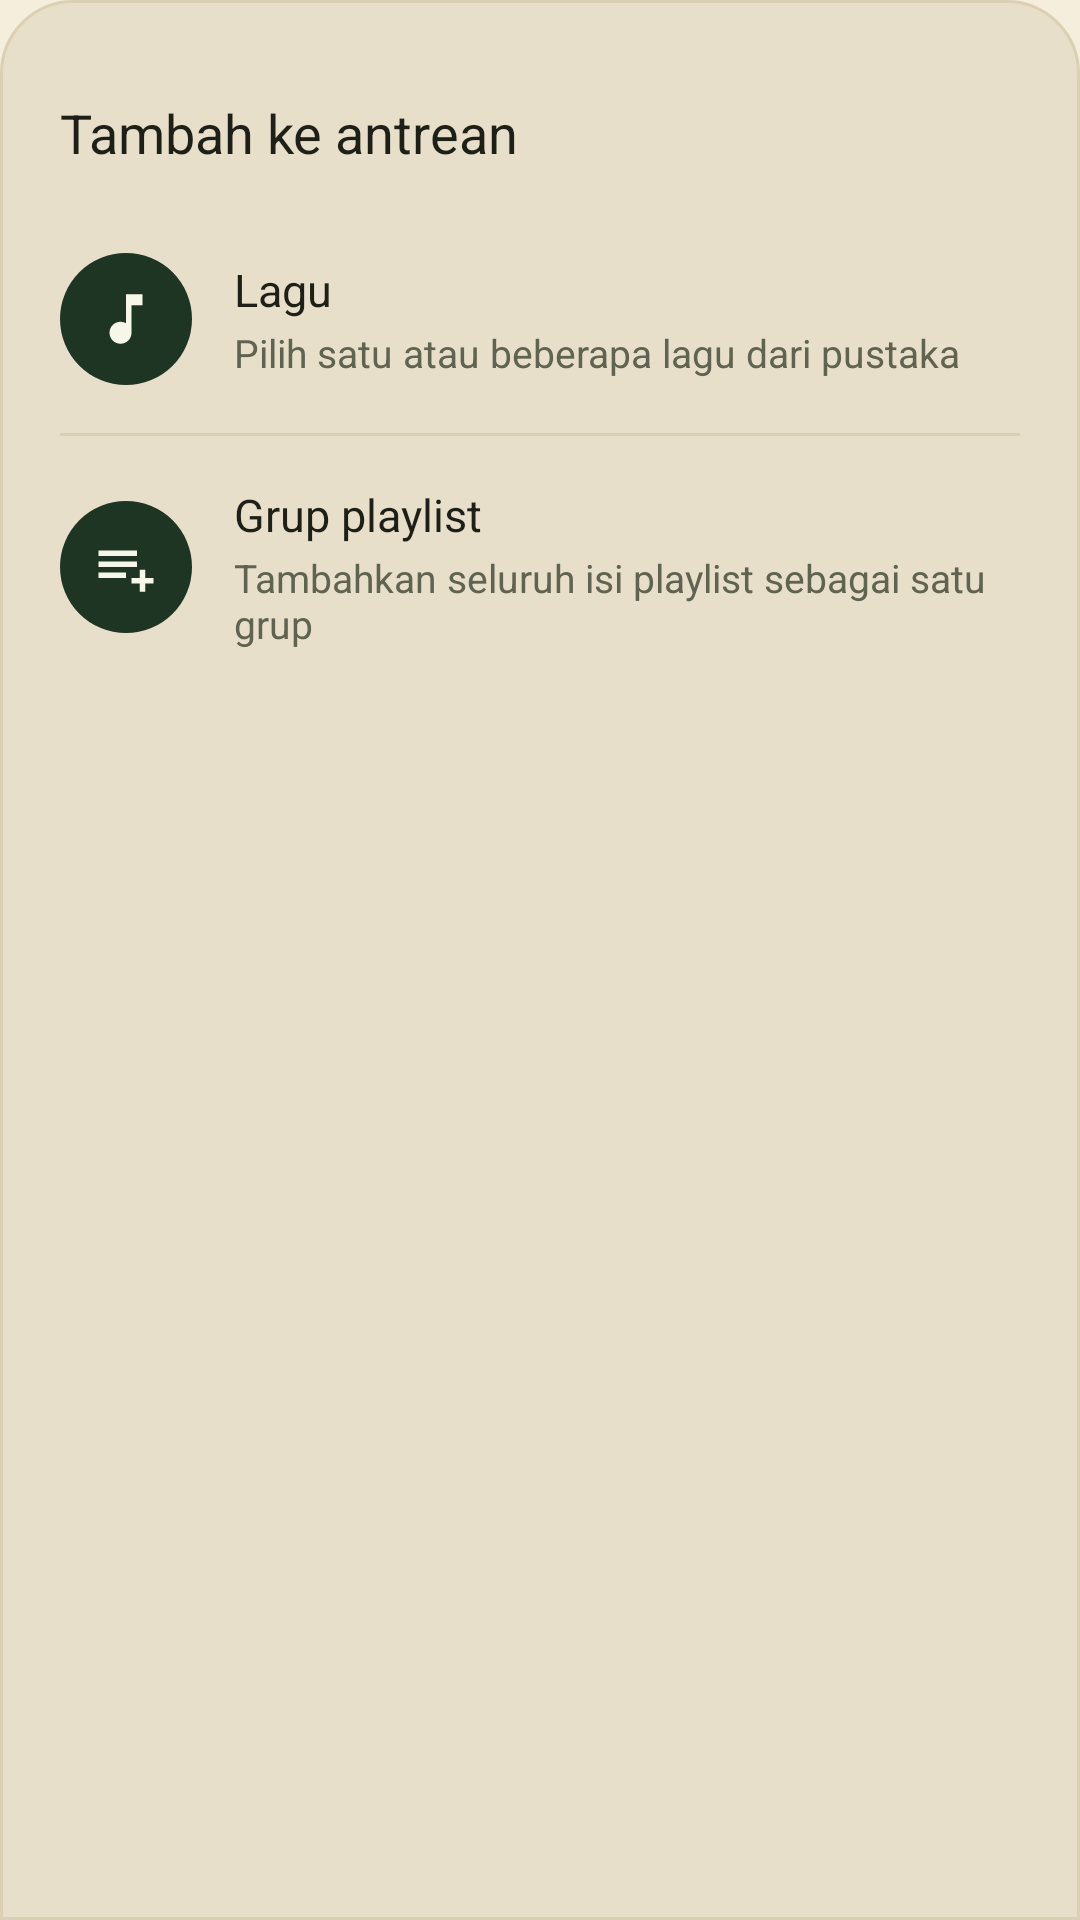

Locate icon controls on the screen. Image size 1080px x 1920px, boxes as {"left": x1, "top": y1, "right": x2, "bottom": y2}.
music note: {"left": 109, "top": 294, "right": 143, "bottom": 344}
queue: {"left": 98, "top": 550, "right": 154, "bottom": 592}
